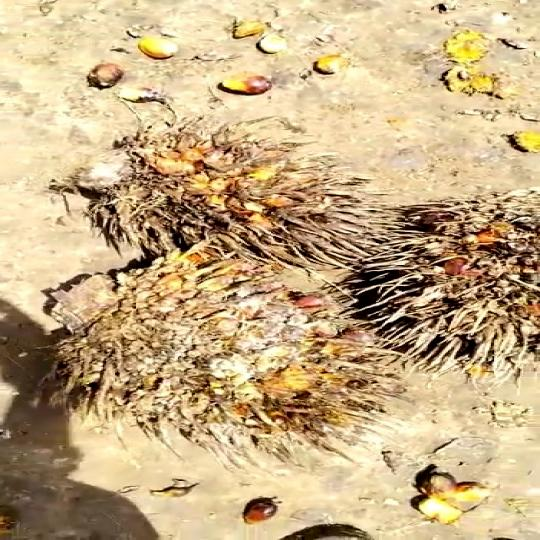terlalu masak: (33, 269, 392, 450), (54, 128, 376, 259)
